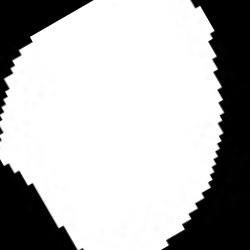spot: (1, 3, 223, 249)
